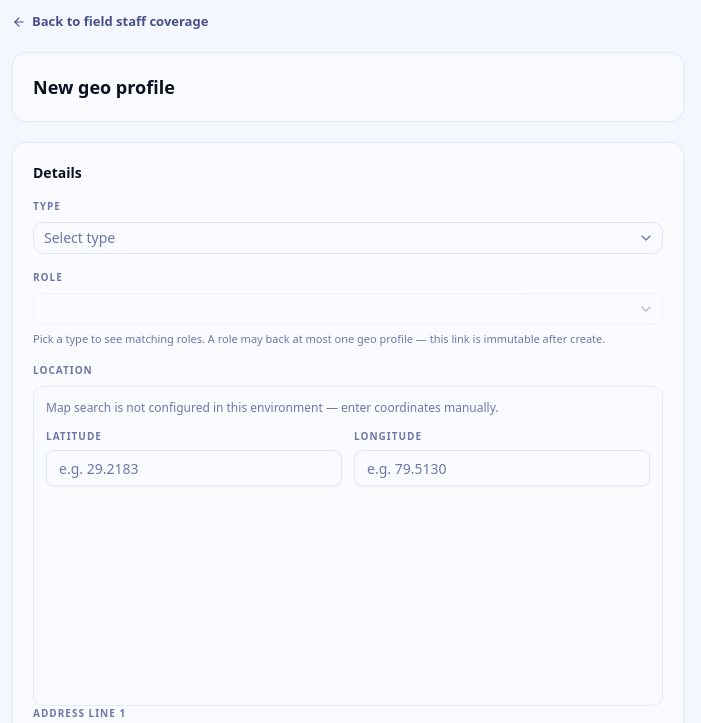
Test: GeoProfileDetailPage — create mode › selecting type "fo" scopes Role options to field-officer-typed roles only — Sales Rep One and Dietitian One are never offered
Click the dropdown labelled "Select type ▼".
click(80, 237)  # box [33, 222, 663, 254]
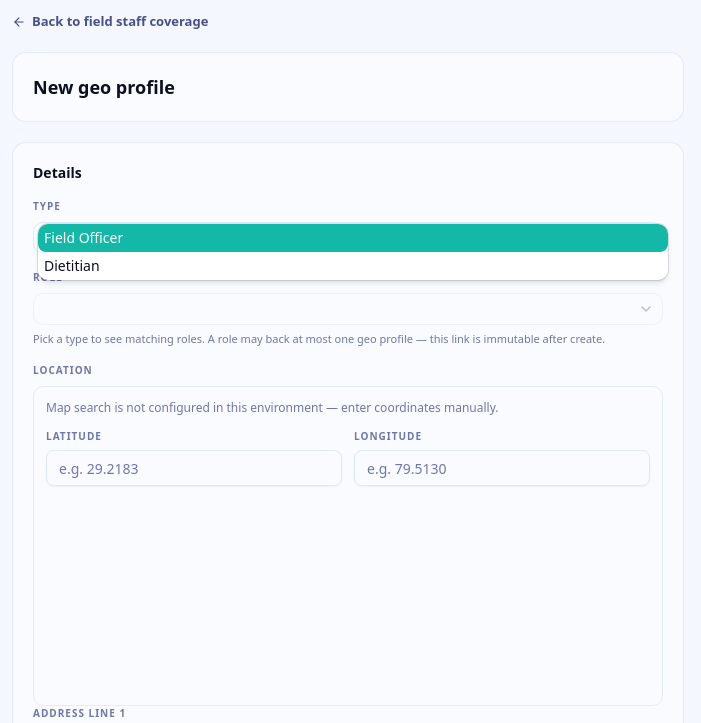
Click the option "Field Officer".
click(84, 237)  # box [38, 224, 668, 252]
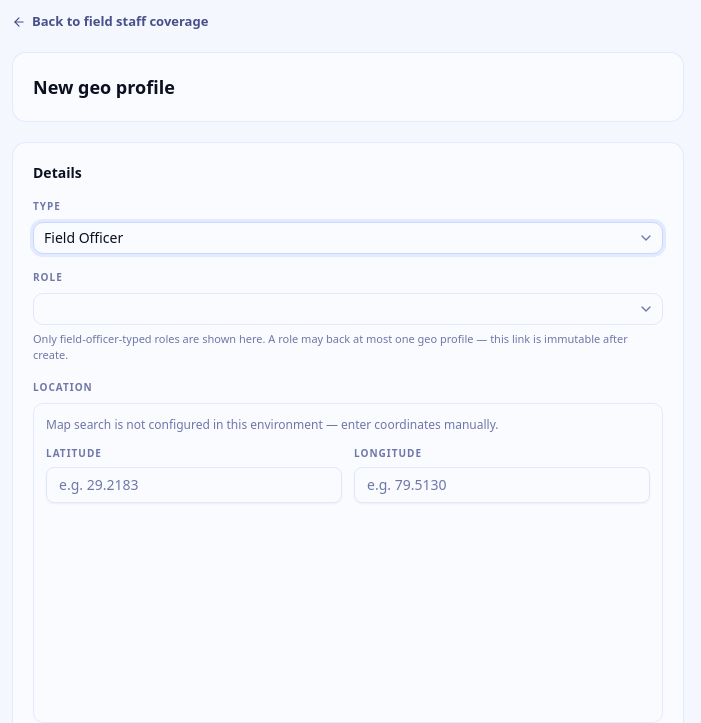
Click the dropdown named "role".
click(646, 308)  # box [33, 292, 663, 324]
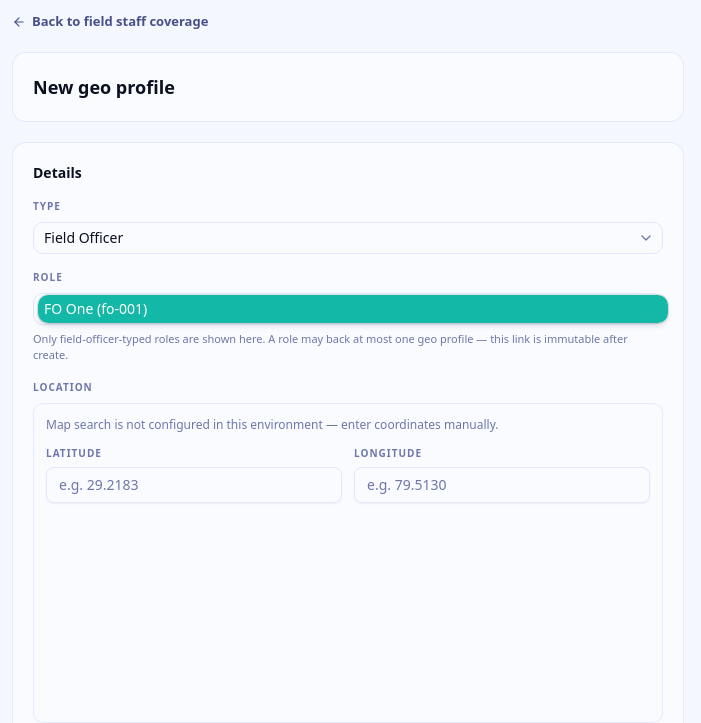
Result: the text "FO One (fo-001)" is shown at [44, 298, 147, 318]
